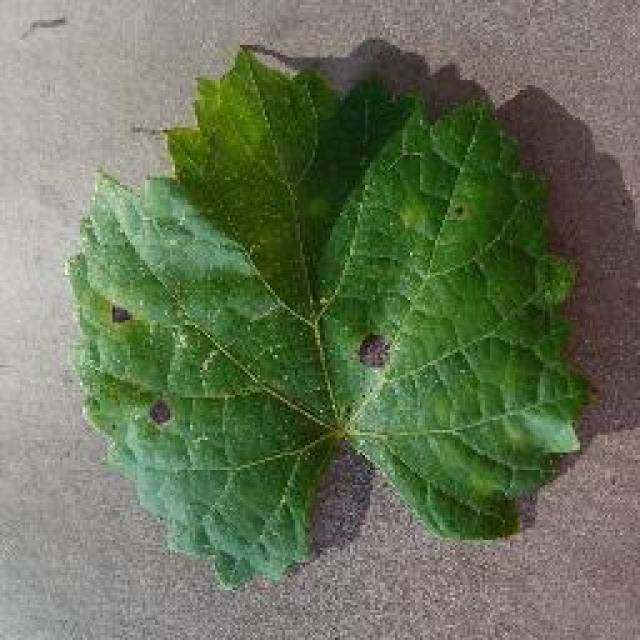Grape___Black_rot: (61, 44, 601, 595)
